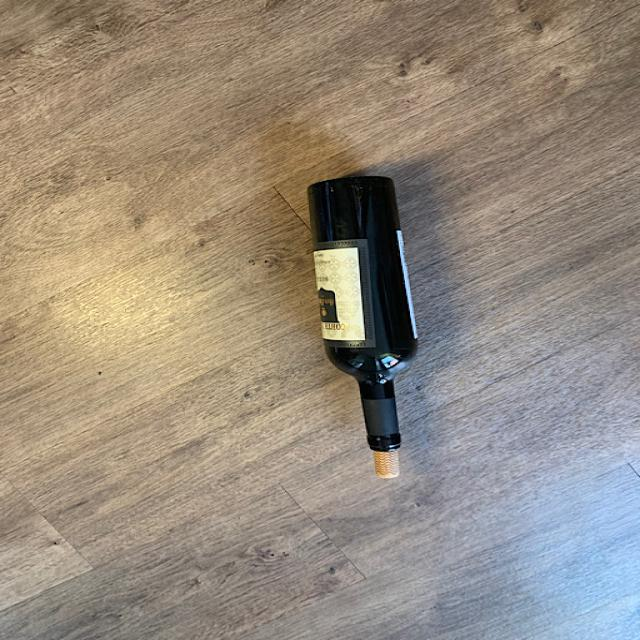litter: (304, 173, 422, 450)
